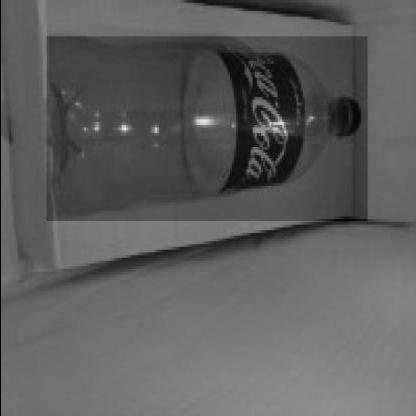plastic_bottles: (45, 37, 366, 221)
